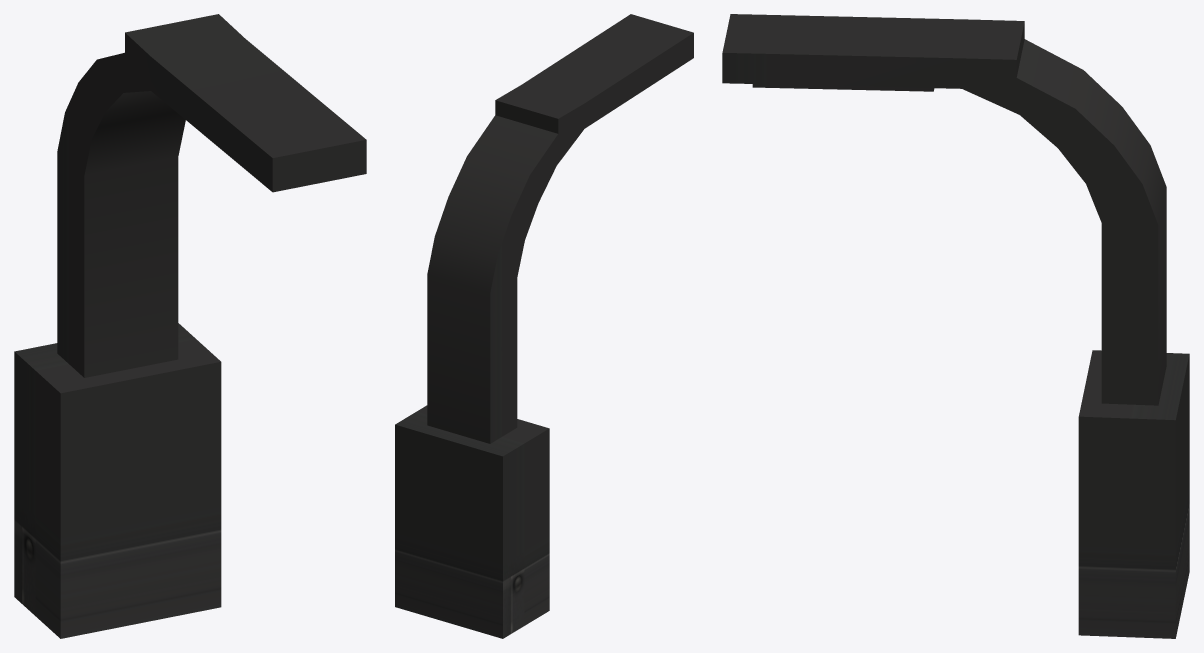
File: prop_street_light.gltf
3 views of the same model, side by side, from view 1: azimuth 30°, elevation 25°; view 2: azimuth 150°, elevation 25°; view 3: azimuth 270°, elevation 25° (orthographic). The views are drawn at different scales.
Parts seen in each view (by area): view 1: street_light3; view 2: street_light3; view 3: street_light3.
Part boxes in pixels (x1=…): street_light3: x1=14, y1=14, x2=366, y2=638; street_light3: x1=395, y1=14, x2=693, y2=638; street_light3: x1=722, y1=14, x2=1189, y2=638.
Bounding box in the file's own units: 0.1707 × 0.6356 × 0.4811.
Materials: 2 (2 with a texture image).
